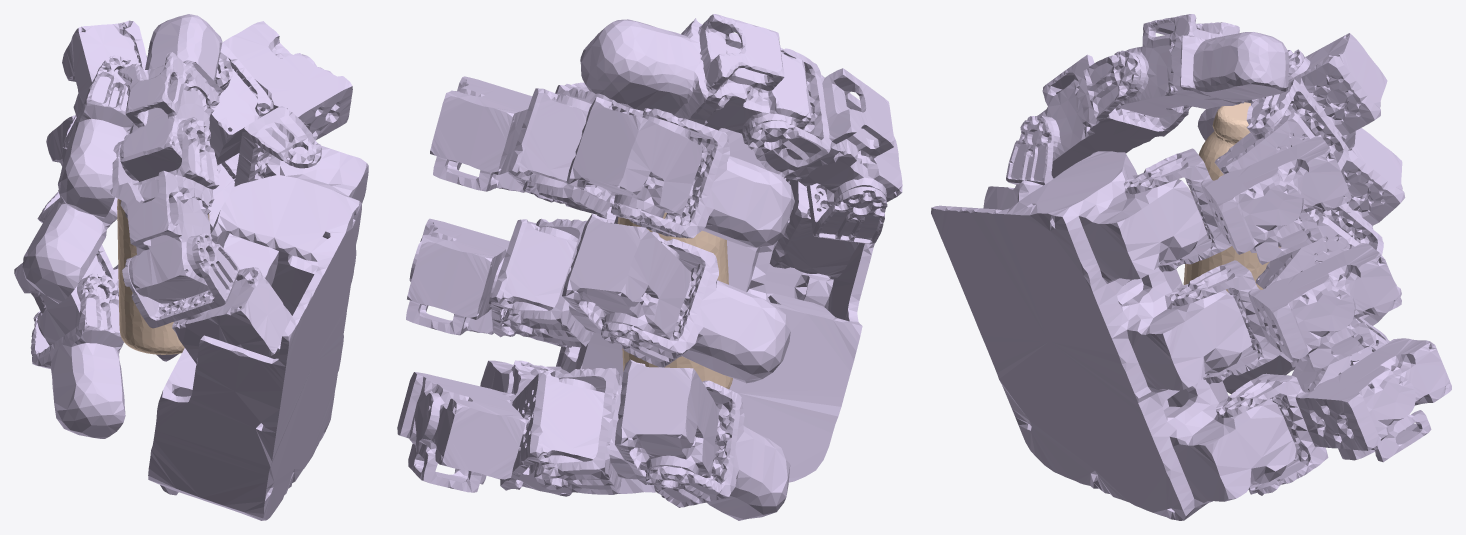
3 renders of one model, left to right at view 1: azimuth 30°, elevation 25°; view 2: azimuth 150°, elevation 25°; view 3: azimuth 270°, elevation 25°, orthographic. The views are drawn at different scales.
Parts seen in each view (by area): view 1: LEAP_hand, world; view 2: LEAP_hand, world; view 3: LEAP_hand, world.
Part boxes in pixels (x1,y1,x2,y2): LEAP_hand: [14, 14, 368, 520]; world: [117, 199, 209, 354]; LEAP_hand: [397, 14, 902, 520]; world: [617, 212, 732, 389]; LEAP_hand: [931, 14, 1451, 520]; world: [1183, 102, 1280, 292].
Size of the model in its own units: 0.1296 by 0.1754 by 0.1857.
